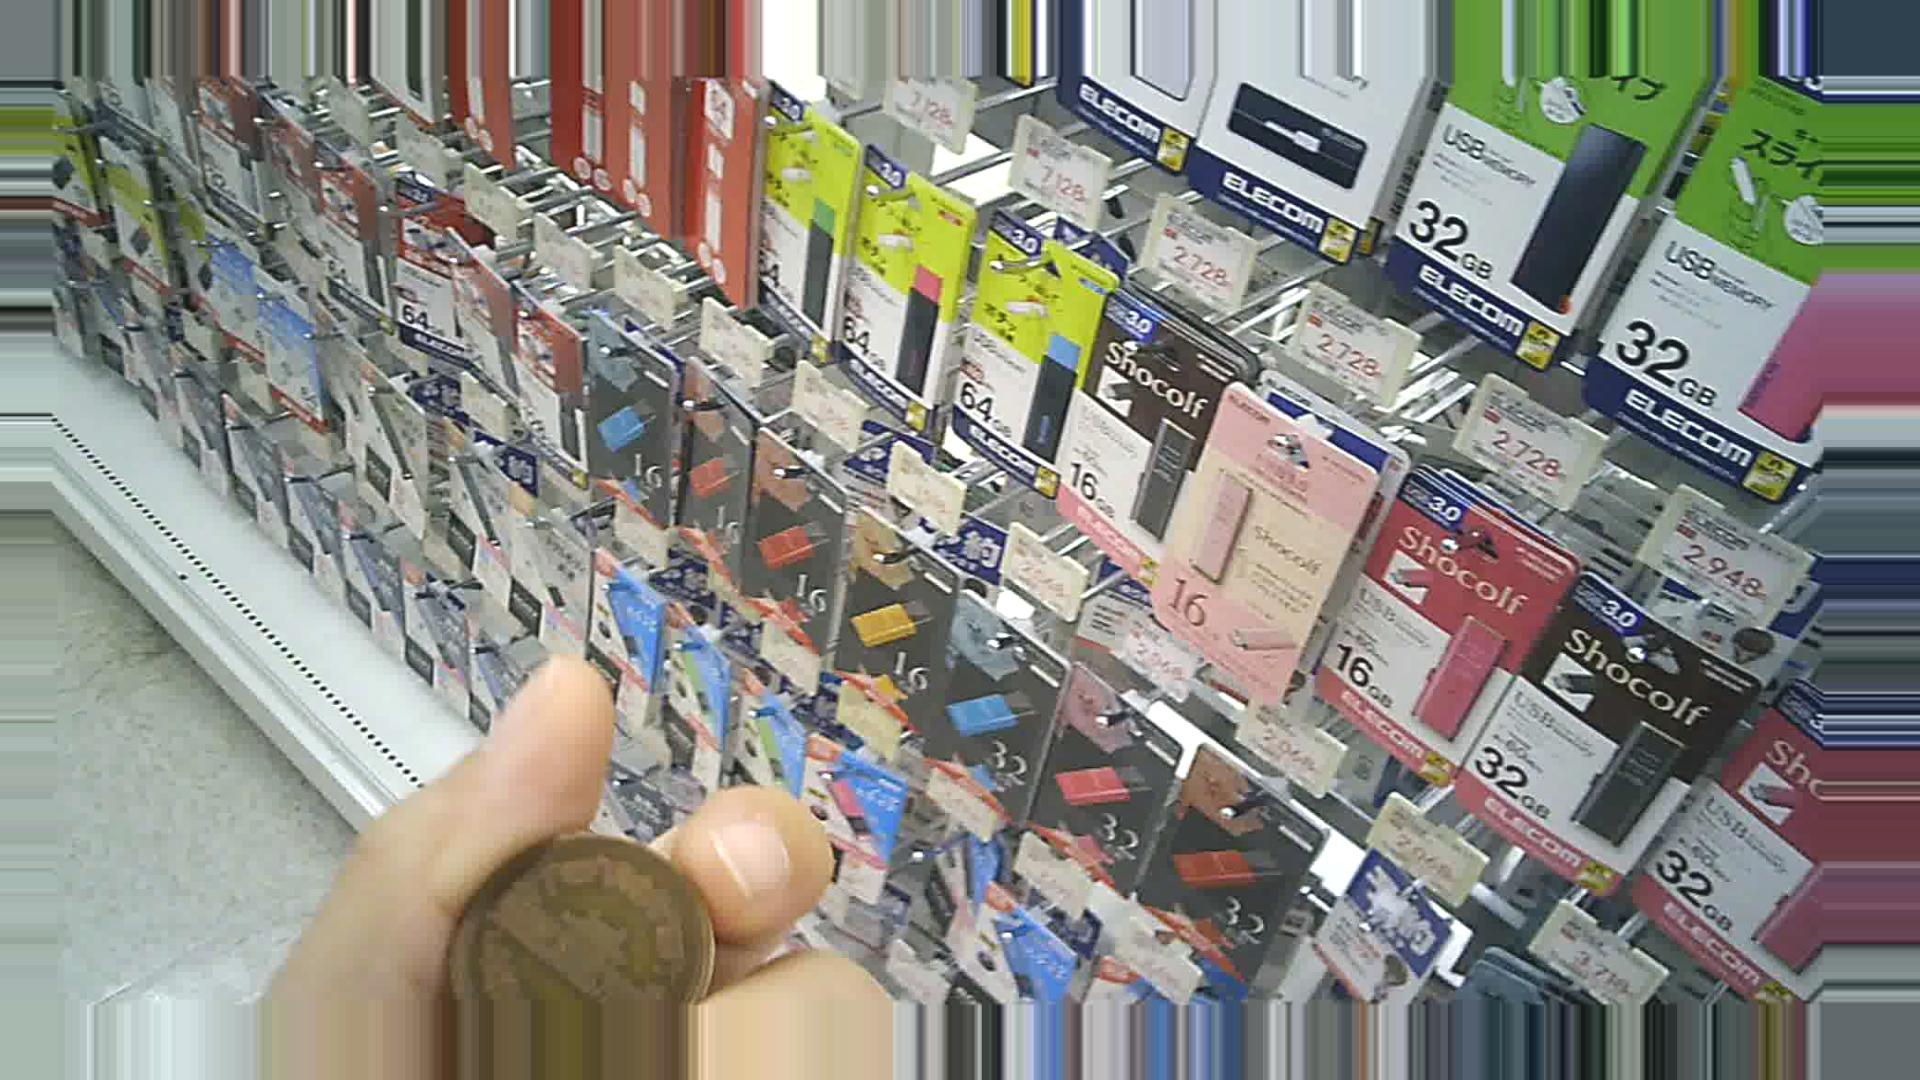10 Yen: (443, 831, 732, 1027)
